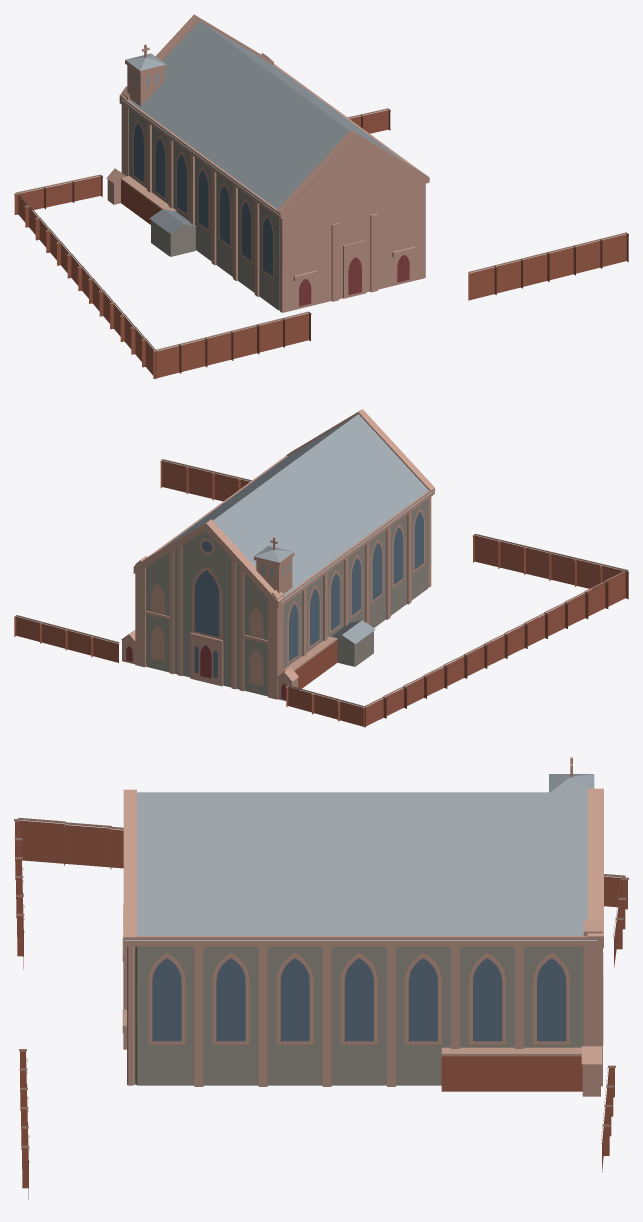
The model's file is nyc-old-st-patricks-cathedral.glb.
3 views of the same model, one above another, from view 1: azimuth 30°, elevation 25°; view 2: azimuth 150°, elevation 25°; view 3: azimuth 270°, elevation 25° (orthographic). The views are drawn at different scales.
Visible parts, largest first — view 1: St. Patrick's Old Cathedral; view 2: St. Patrick's Old Cathedral; view 3: St. Patrick's Old Cathedral.
Part boxes in pixels (<box>): St. Patrick's Old Cathedral: <box>14,14,628,378</box>; St. Patrick's Old Cathedral: <box>14,409,628,727</box>; St. Patrick's Old Cathedral: <box>14,757,628,1199</box>.
Bounding box in the file's own units: 81.59 × 26.75 × 60.98.
